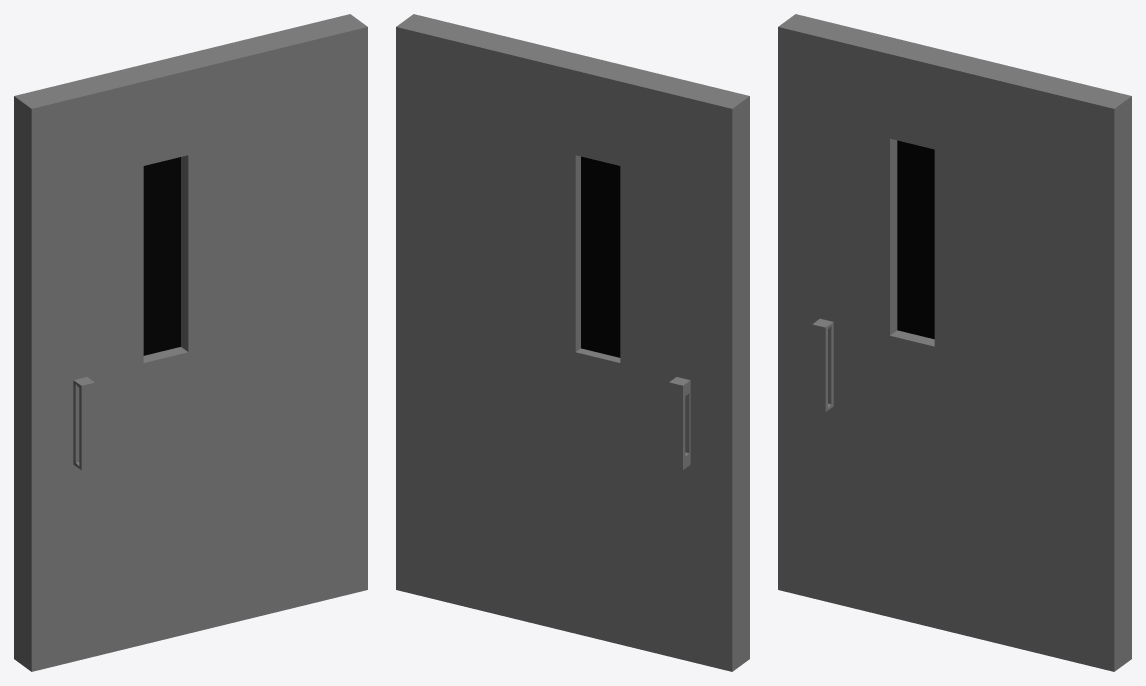
The model's file is Single_Door.fbx.
3 renders of one model, left to right at view 1: azimuth 30°, elevation 25°; view 2: azimuth 150°, elevation 25°; view 3: azimuth 330°, elevation 25°, orthographic.
Visible parts, largest first — view 1: Door_3; view 2: Door_3; view 3: Door_3.
Boxes of the visible parts, x1=… form: Door_3: x1=14, y1=14, x2=367, y2=671; Door_3: x1=396, y1=14, x2=749, y2=671; Door_3: x1=778, y1=14, x2=1131, y2=671.
Bounding box in the file's own units: 1.25 × 2 × 0.2122.
Materials: 1 (1 with a texture image).
